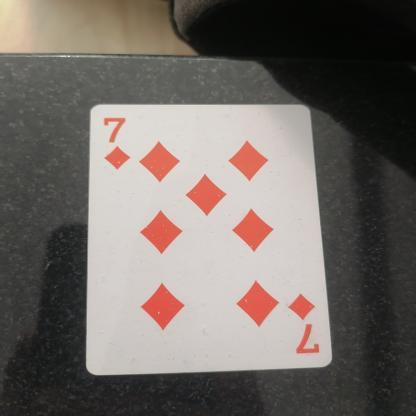7D: (279, 288, 337, 367), (85, 109, 146, 179)
